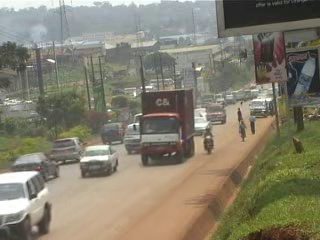Car: (0, 169, 57, 239), (13, 149, 63, 186), (49, 136, 88, 165), (98, 120, 130, 147), (205, 101, 227, 126), (192, 112, 212, 137), (192, 105, 211, 122)
Motorcycle: (199, 128, 217, 155)
